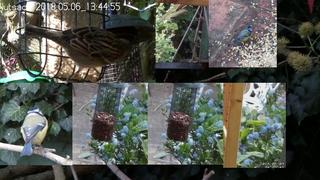blue tit: (20, 107, 48, 156), (233, 24, 253, 43)
sparrow: (24, 24, 132, 74)
